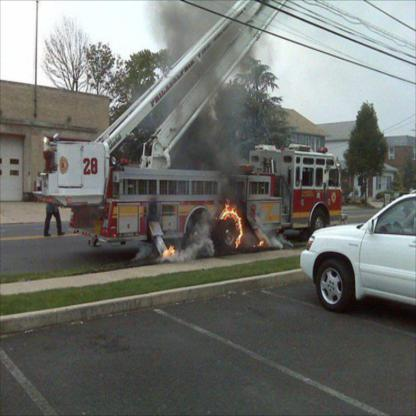Car: (300, 189, 415, 312)
Truck: (32, 0, 348, 257)
